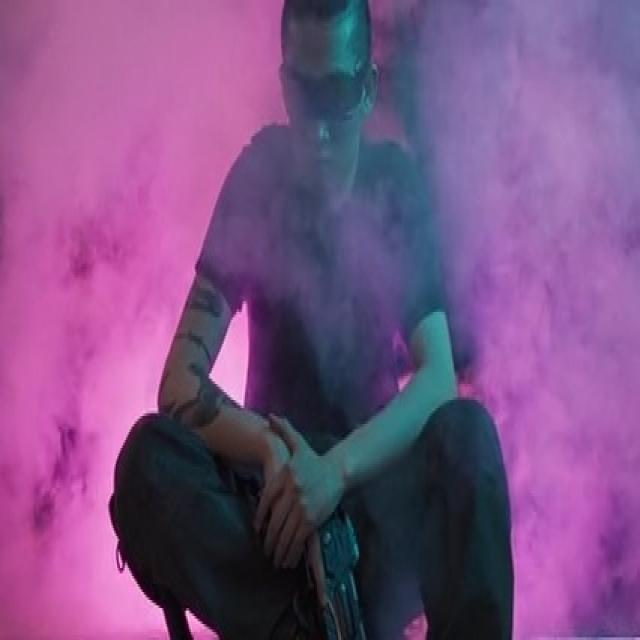Gun_Holder: (260, 436, 390, 640)
Person: (116, 0, 524, 640)
